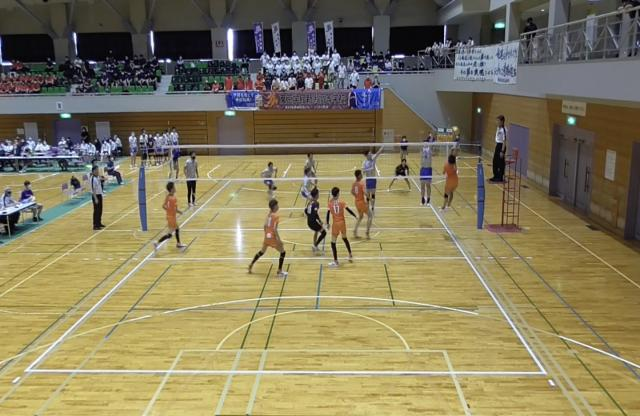spike: (438, 126, 462, 220)
